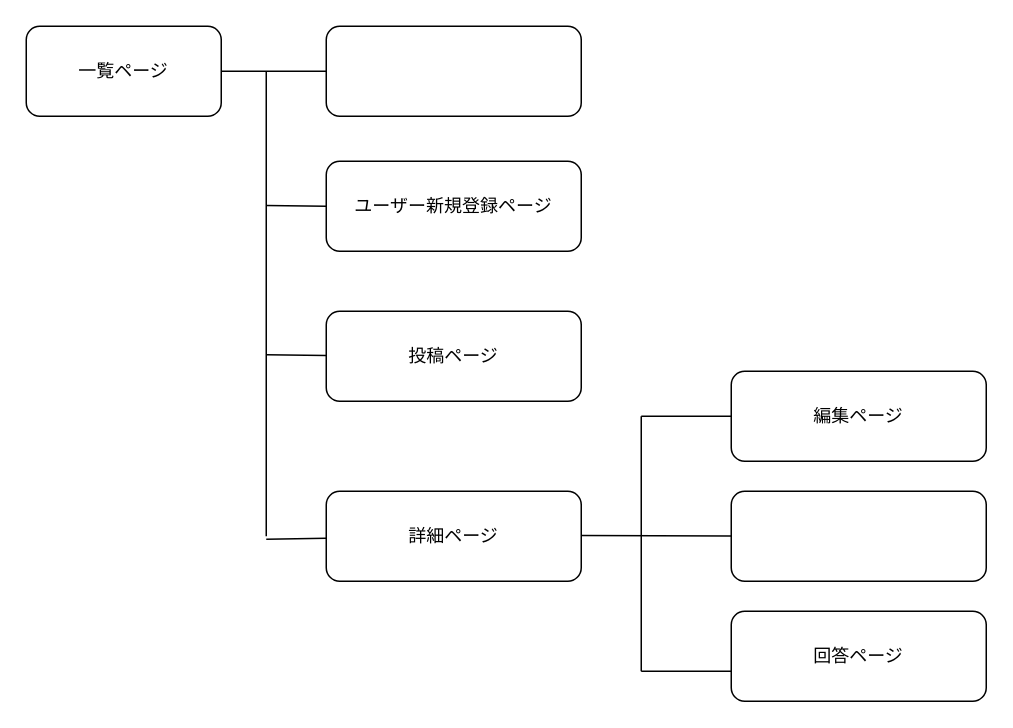
The diagram is 1013 pixels wide and 728 high, and some of its shapes have lost their labels. Each missing label, with the box of its shape:
ユーザーログインページ: (325, 25, 581, 116)
削除完了ページ: (730, 490, 986, 581)
